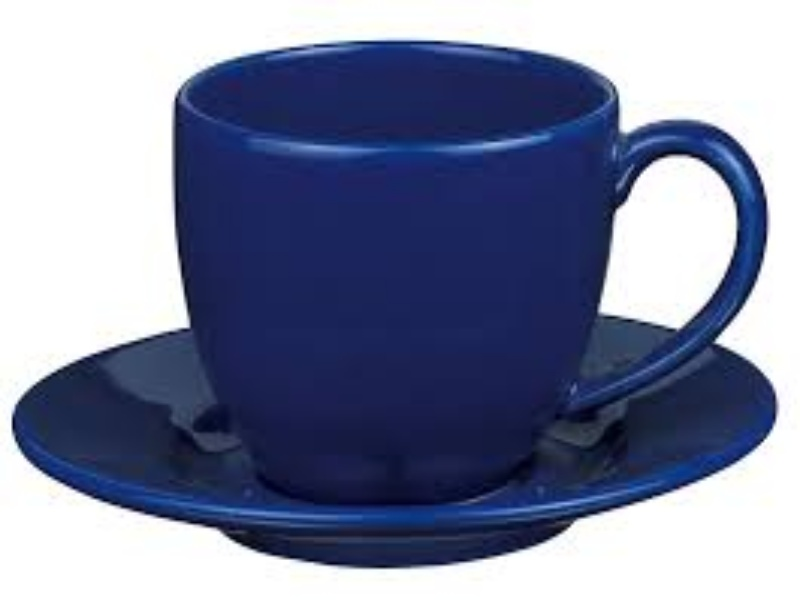cup: (115, 26, 767, 500)
